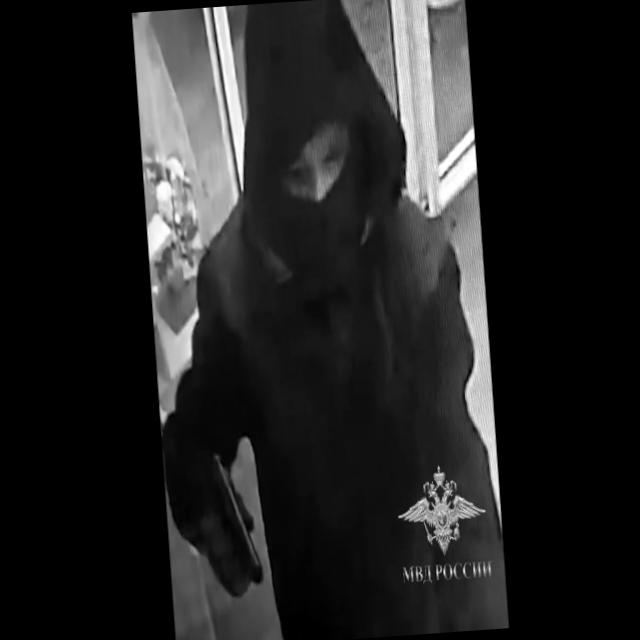gun: (201, 437, 266, 609)
person with a gun: (136, 0, 510, 640)
